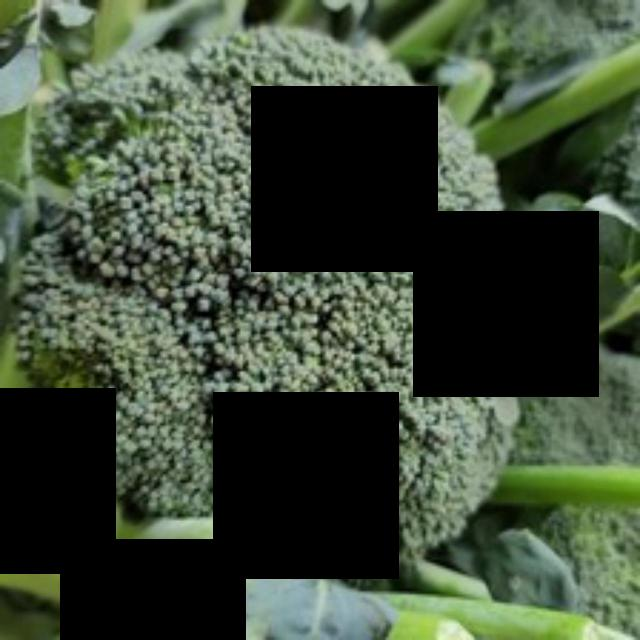broccoli: (20, 0, 530, 572)
